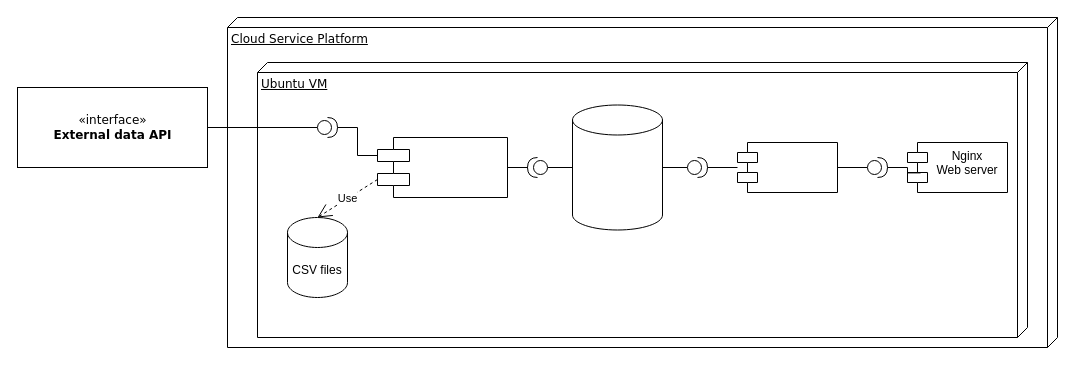
Some shapes in this 1075 by 365 pixel diagram are drawn without their labels. Each missing label, with the centre of its shape:
Apache Kafka: point 442,167
PosgreSQL Data Mart: point 617,167
Tableu: point 787,167
